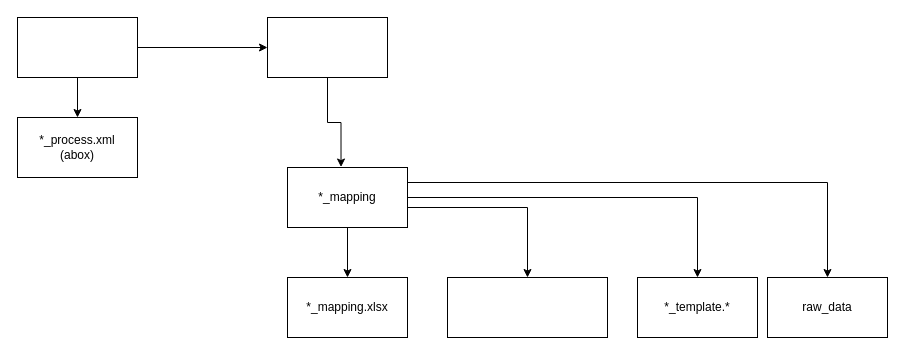
Some shapes in this 905 by 355 pixel diagram are drawn without their labels. The shapes that lost their labels are listed below. From the top down, each one's centre as x and y in pixels, then its label:
At point (77, 47): "Project_Folder".
At point (327, 47): "Parser (csv, excel)".
At point (527, 307): "*_location_mapping.xlsx".
